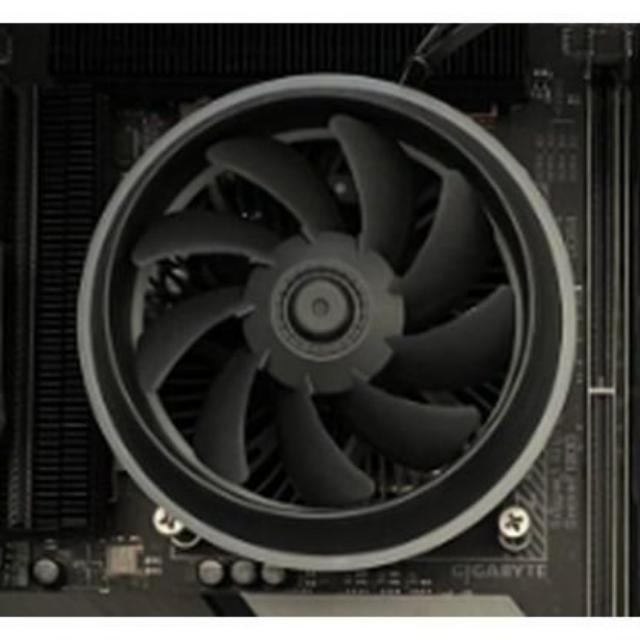CPU_Fan: (92, 72, 554, 570)
